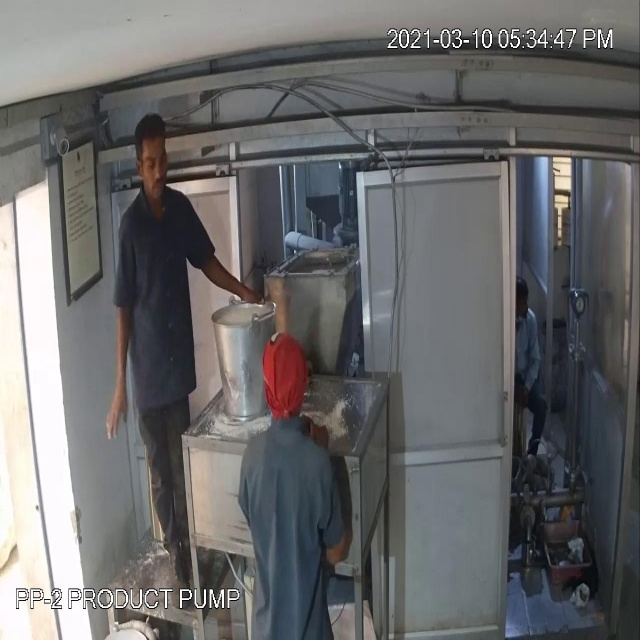Sin_guantes: (94, 269, 142, 451), (196, 233, 259, 319)
